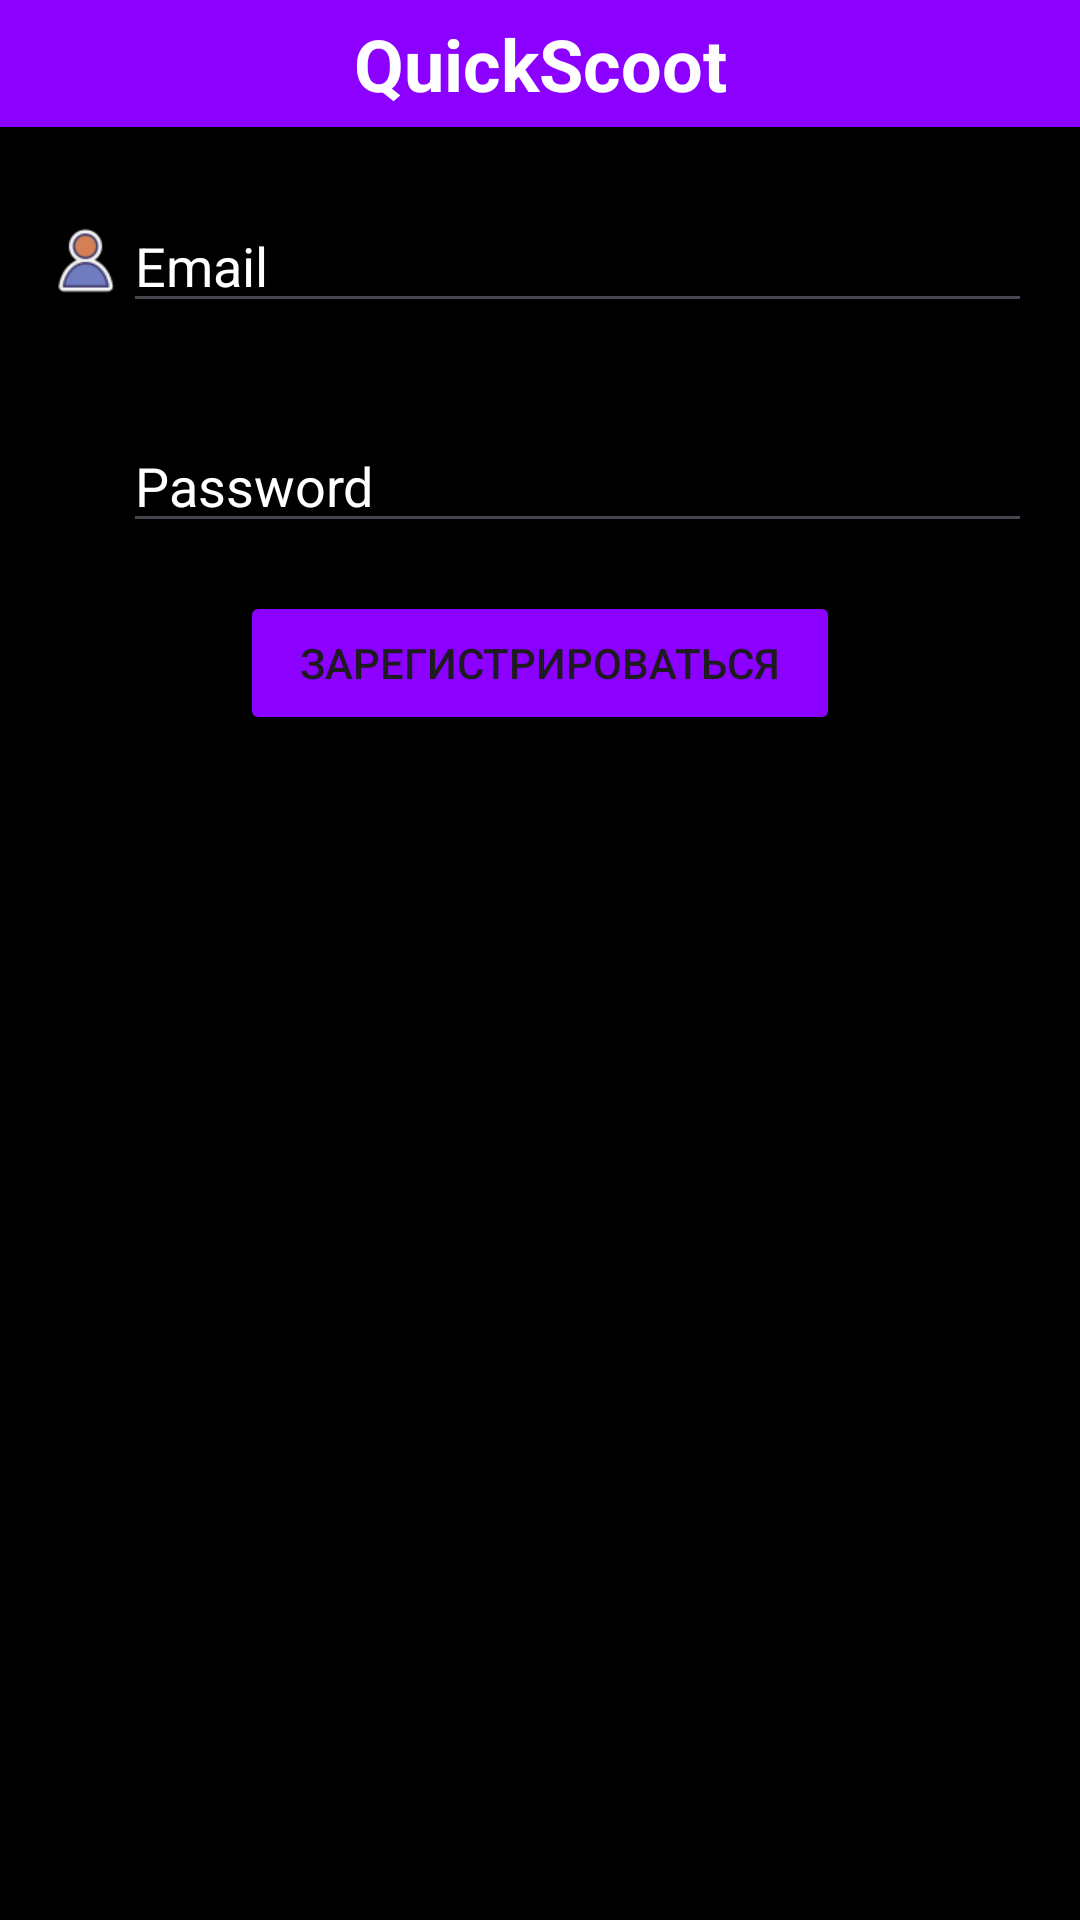

Screen size 1080w x 1920h. Icon name, then its box in pixels as (x1, y1, x2, y2):
userpng: (58, 229, 114, 292)
